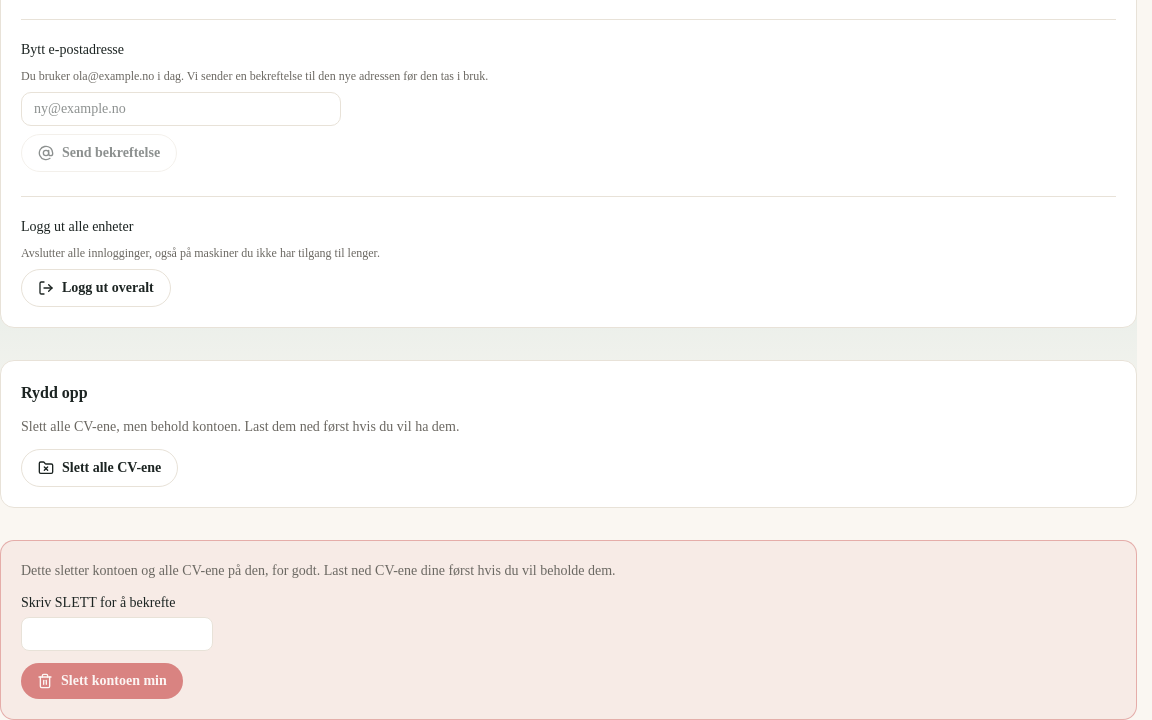
Test: AccountPanel › keeps account deletion disabled until the confirmation word is typed
This screenshot has width=1152, height=720.
(page scrolled)
Expected: the button "Slett kontoen min" is disabled, [21,663,183,699]
Type "slett" into the field labelled "Skriv SLETT for å bekrefte" at (117, 634), box [21,617,213,651]
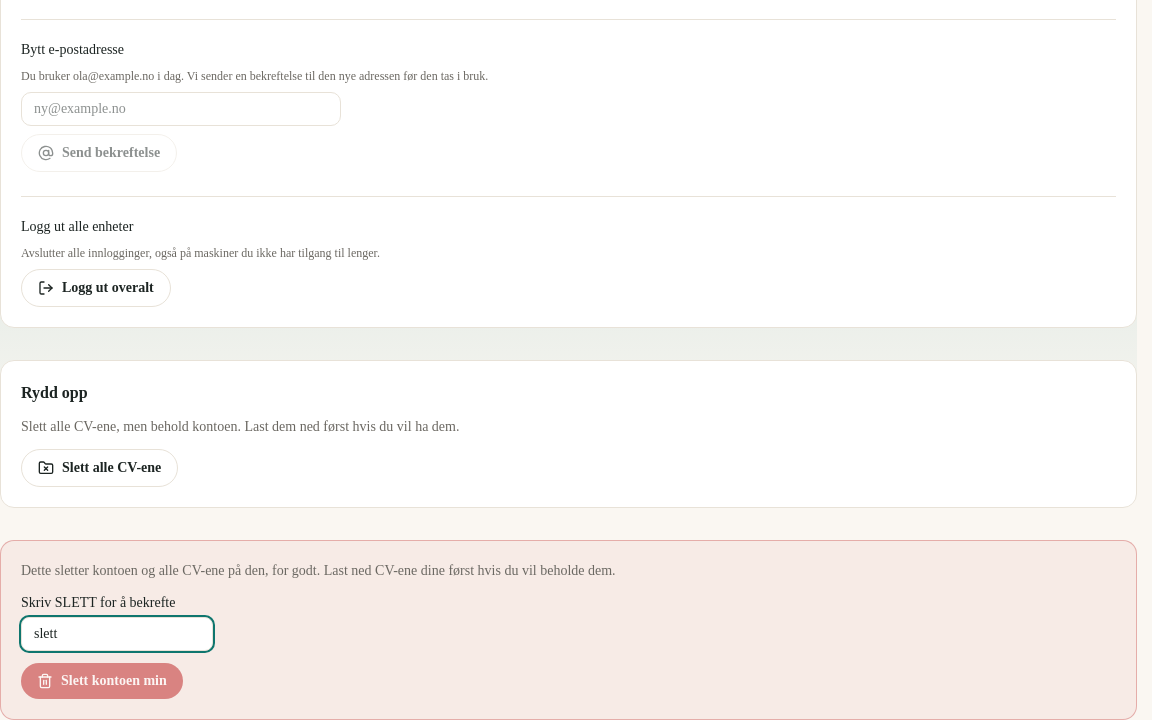
Expected: the button "Slett kontoen min" is disabled, [21,663,183,699]
Replace the text in the field labelled "Skriv SLETT for å bekrefte" with "SLETT" at (117, 634), box [21,617,213,651]
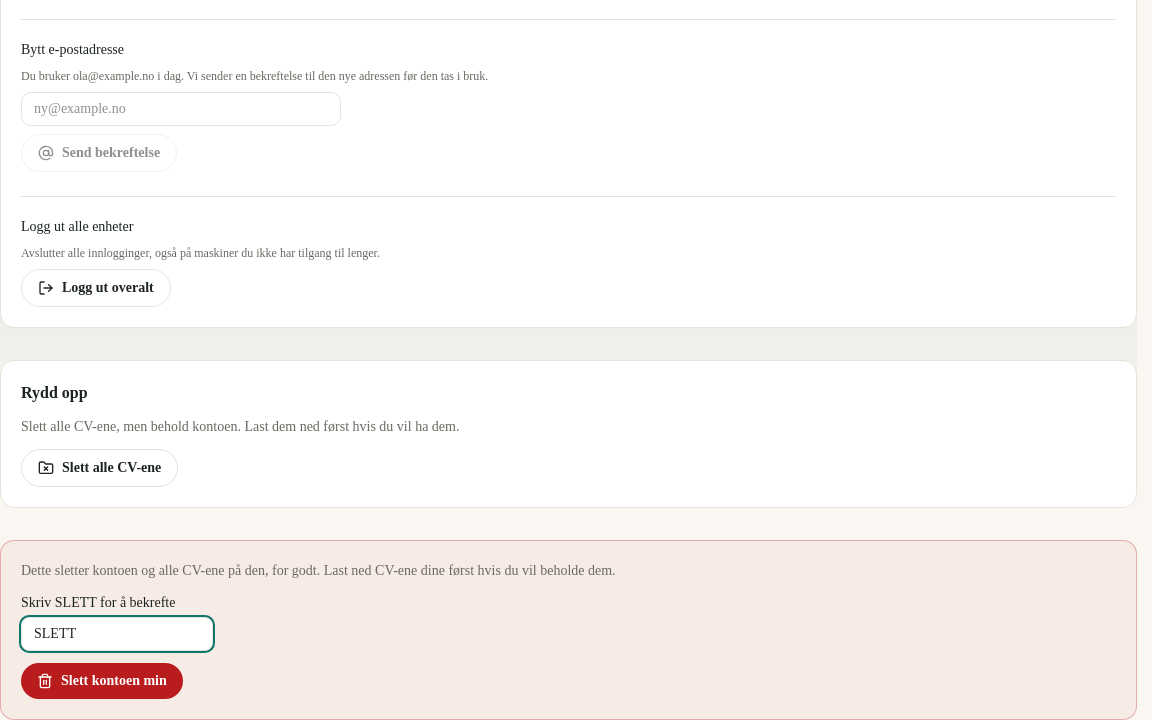
Expected: the button "Slett kontoen min" is enabled, [21,663,183,699]
